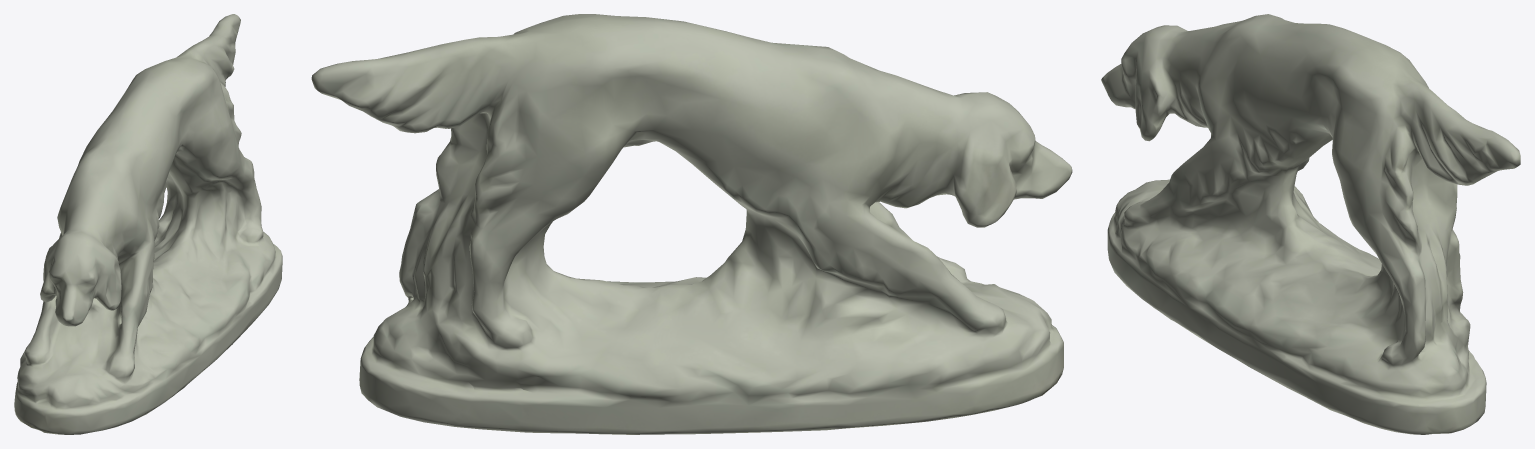
The model's file is opti.gltf.
3 views of the same model, side by side, from view 1: azimuth 30°, elevation 25°; view 2: azimuth 150°, elevation 25°; view 3: azimuth 270°, elevation 25° (orthographic). The views are drawn at different scales.
Visible parts, largest first — view 1: lowPoly; view 2: lowPoly; view 3: lowPoly.
Boxes of the visible parts, box(x1,y1,x2,y2) form: lowPoly: box(14, 14, 282, 434); lowPoly: box(311, 14, 1072, 434); lowPoly: box(1101, 14, 1520, 434).
Bounding box in the file's own units: 2602 × 1756 × 2143.
